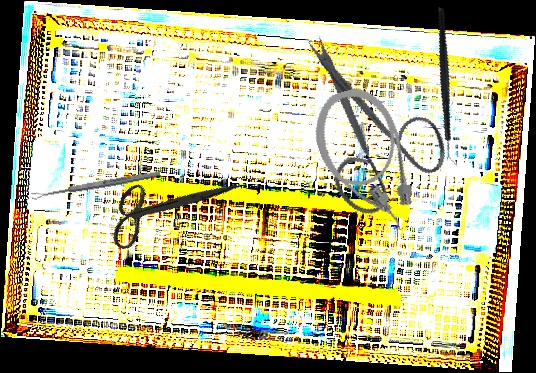Cannula: (304, 79, 427, 247)
Chopper: (395, 7, 502, 167)
Iris Scissors: (256, 30, 471, 234), (95, 133, 238, 281)
Surgical Spoon: (31, 169, 161, 201)
